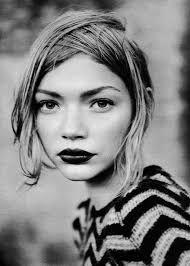No Mask: (17, 32, 148, 198)
